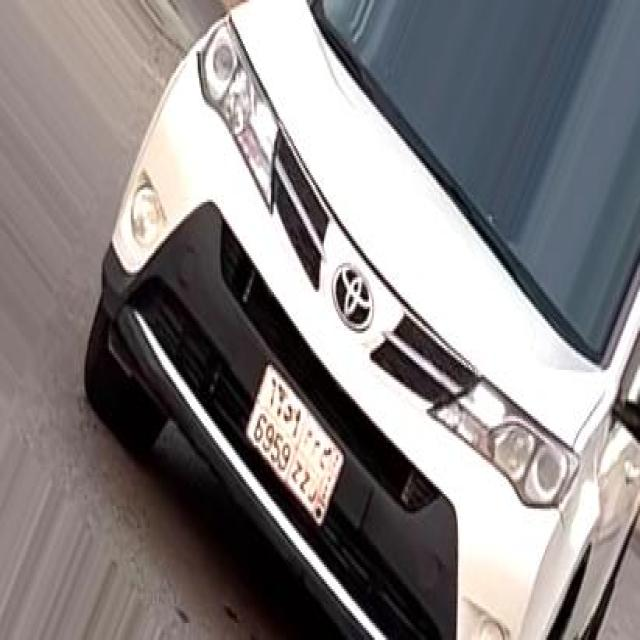Car-plate: (233, 317, 371, 548)
